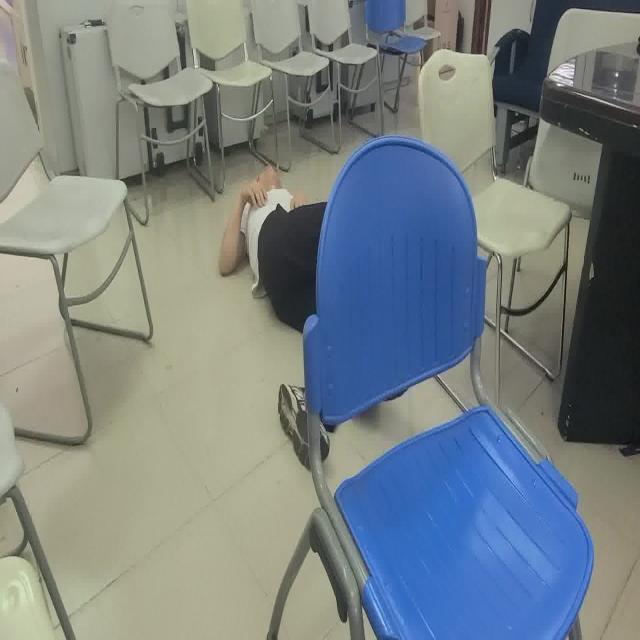fall: (220, 160, 412, 472)
